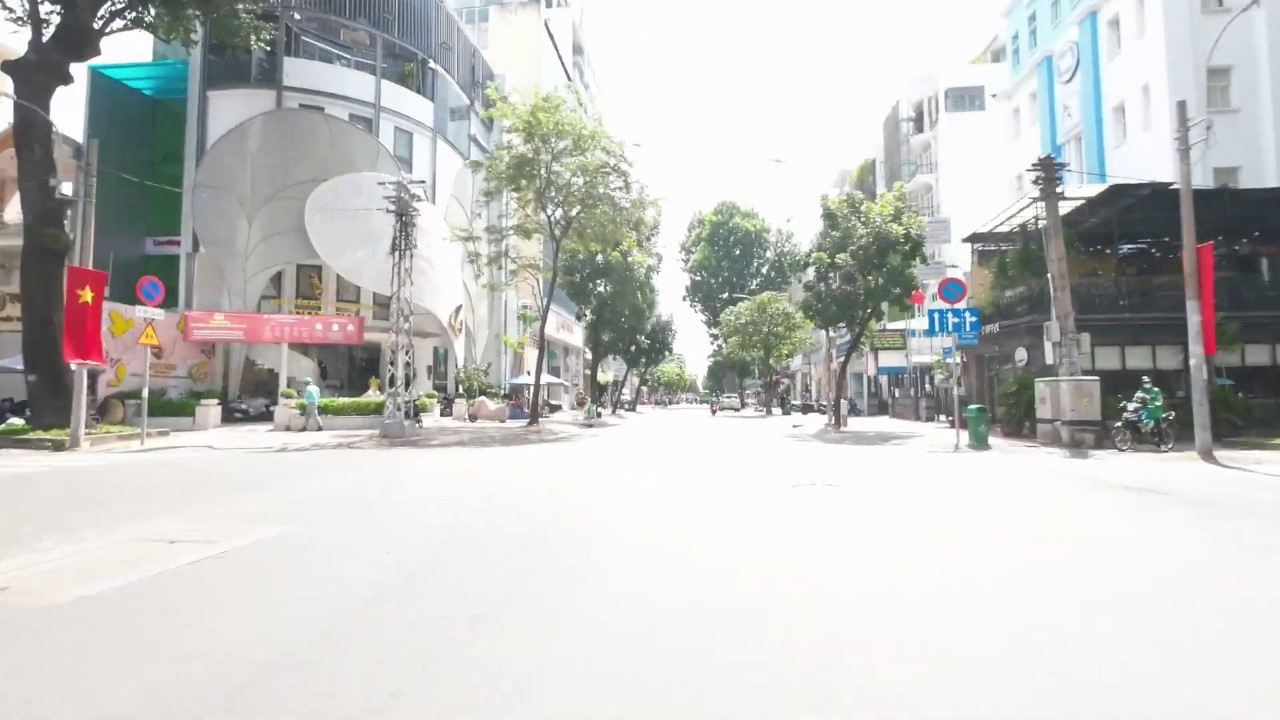cam_do_xe: (134, 275, 165, 307), (937, 277, 968, 305)
